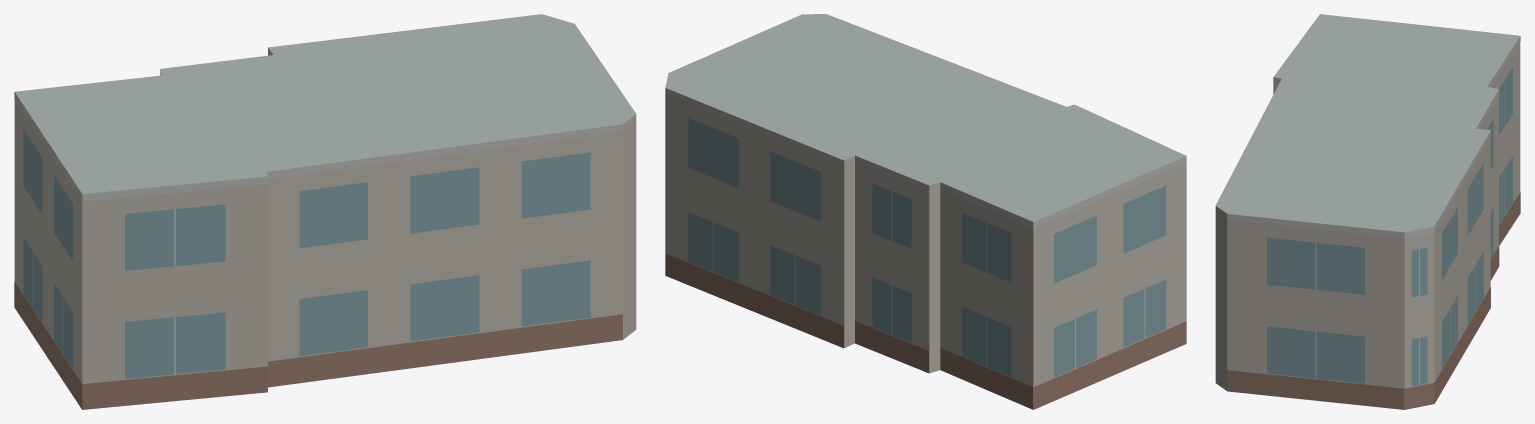
File: survey-upis-32753267.glb
3 renders of one model, left to right at view 1: azimuth 30°, elevation 25°; view 2: azimuth 150°, elevation 25°; view 3: azimuth 270°, elevation 25°, orthographic. The views are drawn at different scales.
Parts seen in each view (by area): view 1: survey-upis-32753267.tmp; view 2: survey-upis-32753267.tmp; view 3: survey-upis-32753267.tmp.
Boxes of the visible parts, box(x1,y1,x2,y2) form: survey-upis-32753267.tmp: box(14, 14, 636, 409); survey-upis-32753267.tmp: box(665, 14, 1186, 409); survey-upis-32753267.tmp: box(1215, 14, 1520, 409).
Bounding box in the file's own units: 18.47 × 7 × 10.91.
